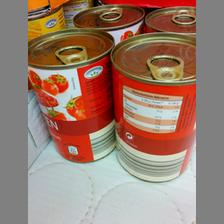Tomatensauce: (108, 32, 194, 184), (28, 27, 114, 164)
